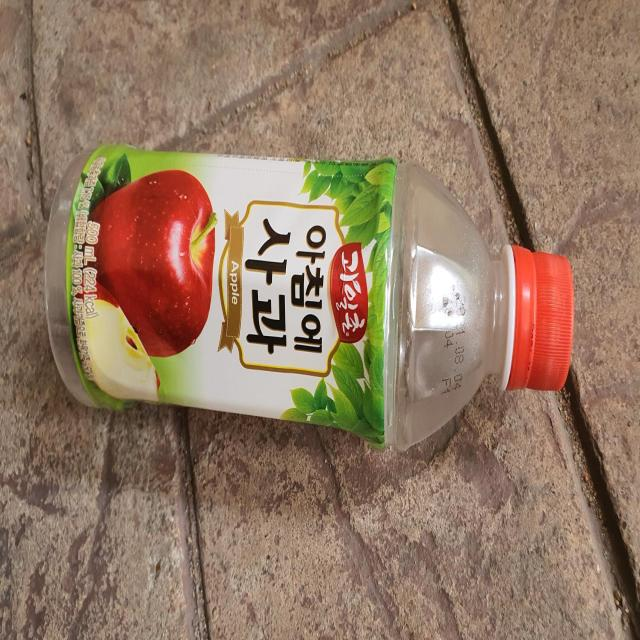plastic: (44, 144, 574, 450)
